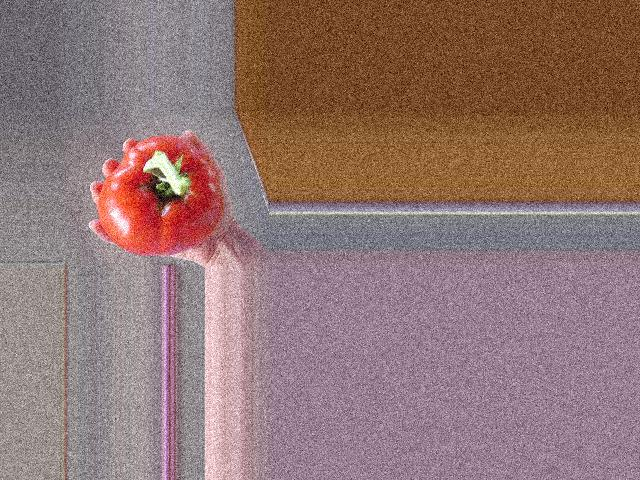tomato: (97, 135, 222, 256)
